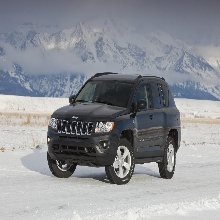no damage: (45, 72, 183, 185)
